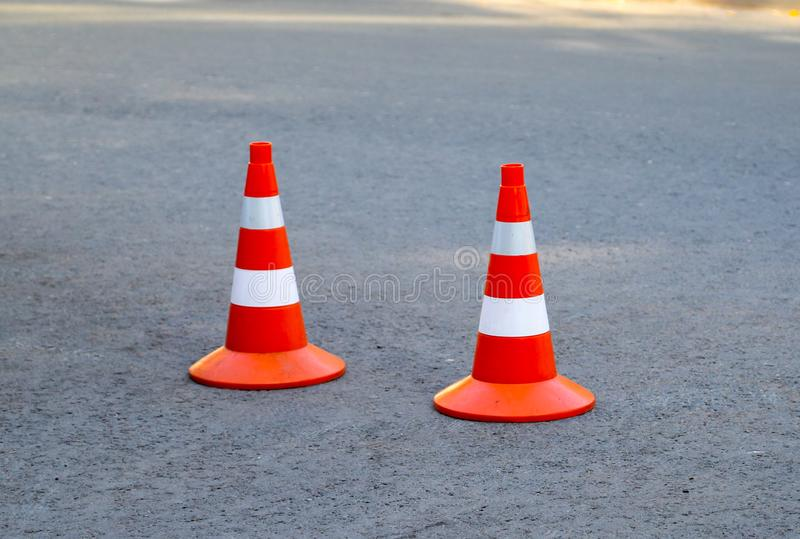cones: (426, 159, 601, 422), (183, 139, 353, 391)
